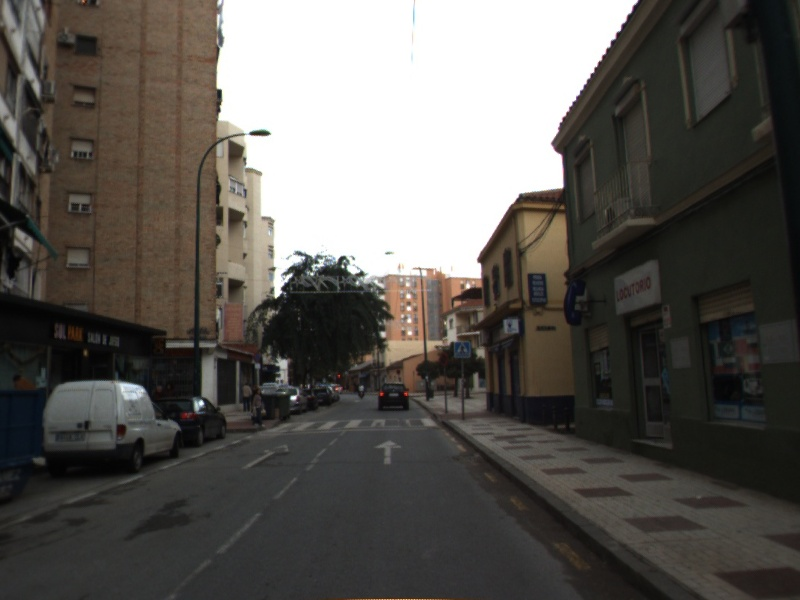STRAIGHT: (238, 441, 291, 472), (371, 438, 405, 466)
